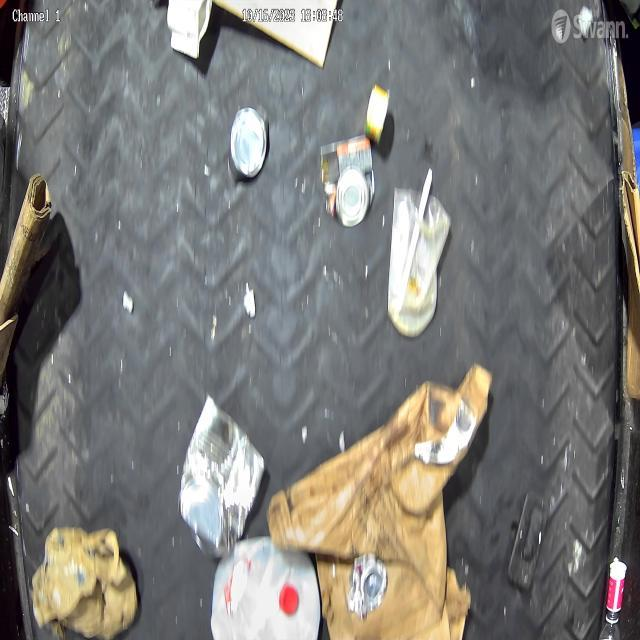can: (228, 104, 268, 178)
milk_jug: (211, 539, 317, 640)
